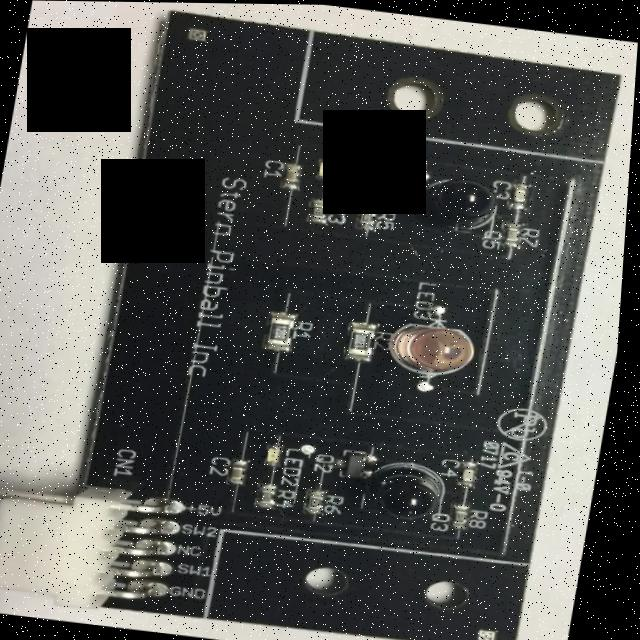4439: (329, 445, 381, 480), (378, 162, 430, 192)
LED: (384, 314, 483, 375), (423, 169, 513, 230), (374, 459, 462, 520), (310, 152, 343, 180), (266, 443, 299, 464)
capacitor 1V5: (282, 159, 305, 186), (460, 461, 487, 483), (515, 181, 540, 203), (230, 458, 253, 481), (504, 222, 525, 236)
connector -5v-: (0, 476, 202, 617)
resistor IR1: (266, 316, 307, 347), (352, 198, 388, 225), (307, 486, 341, 512), (347, 321, 376, 349), (308, 200, 334, 219), (262, 479, 285, 499), (457, 504, 476, 523)
